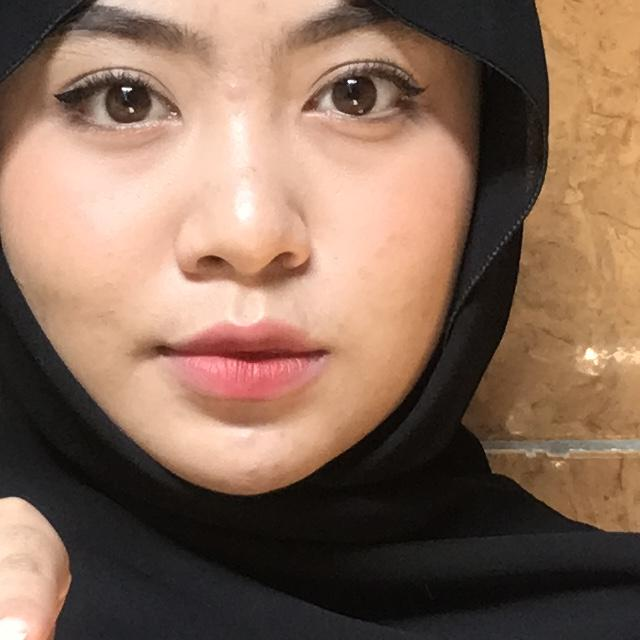kamu: (0, 441, 225, 640)
